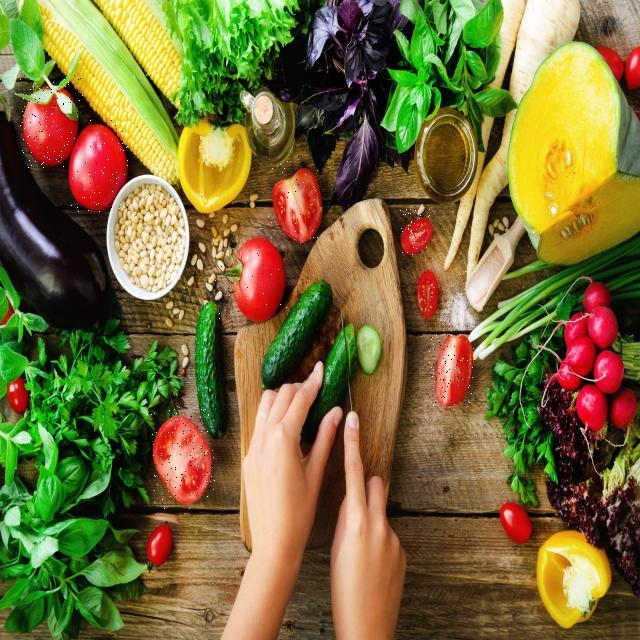Tomato: (151, 407, 215, 509), (20, 75, 84, 170), (212, 243, 288, 322), (68, 118, 128, 212), (268, 158, 318, 251), (428, 334, 477, 406), (400, 209, 430, 257), (416, 272, 439, 320)
